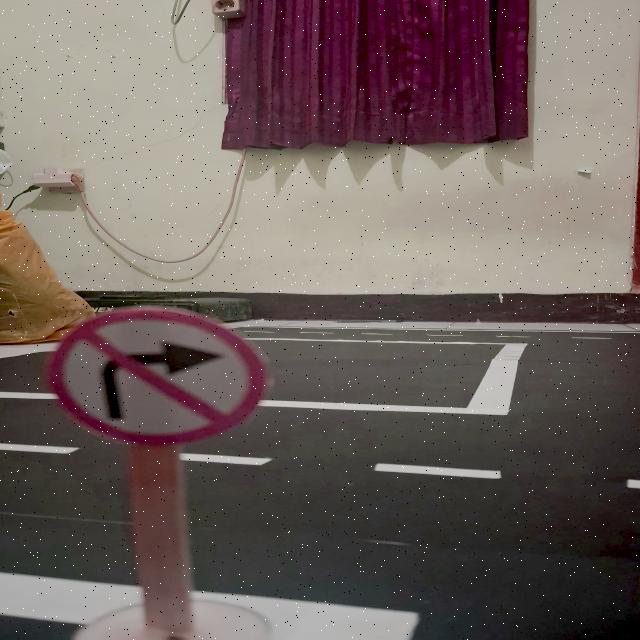Dilarang Belok Kanan: (46, 308, 270, 447)
